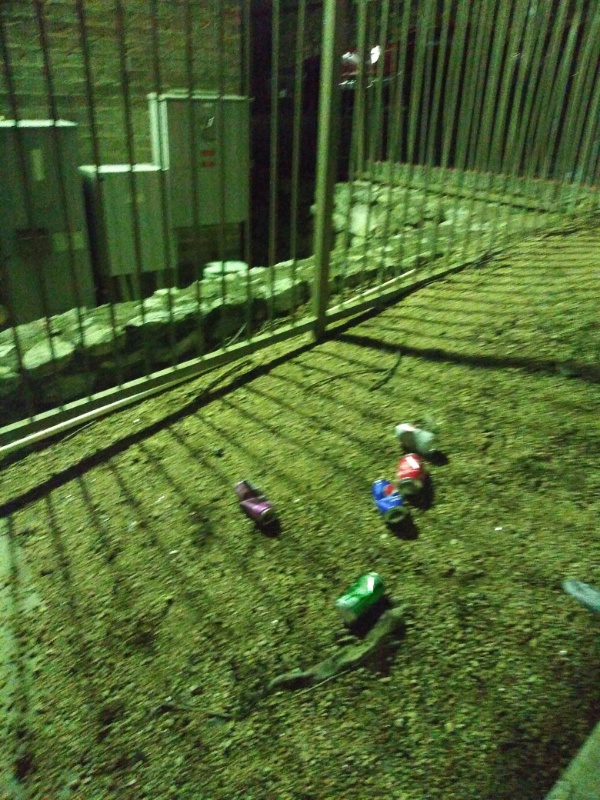can: (336, 568, 388, 626), (367, 474, 411, 527), (391, 416, 445, 457), (237, 480, 278, 527), (394, 448, 427, 498)
